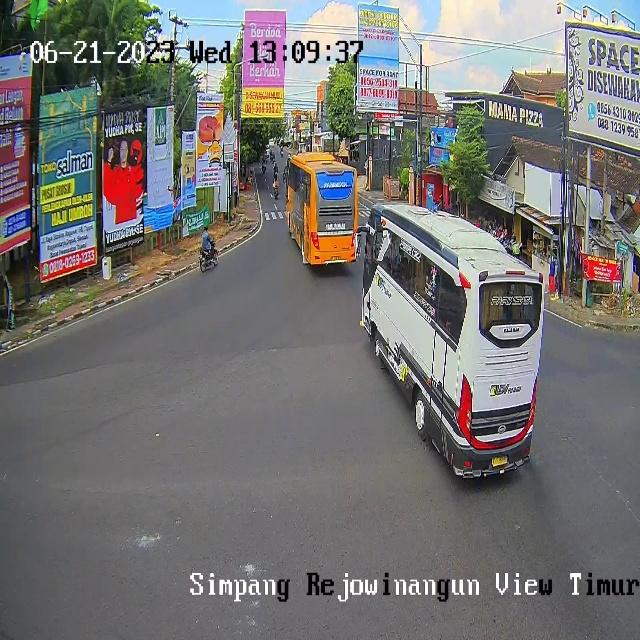bus: (200, 239, 218, 274), (274, 184, 280, 200)
car: (359, 204, 545, 480), (286, 152, 359, 266)
